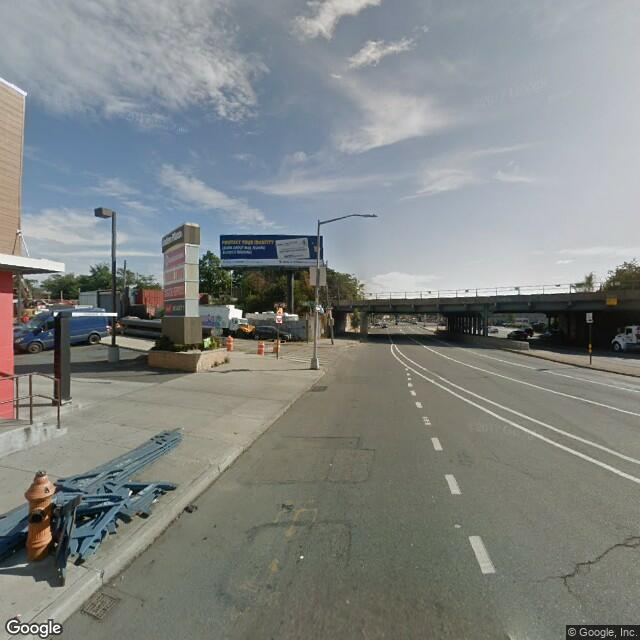litter: (1, 437, 240, 558)
